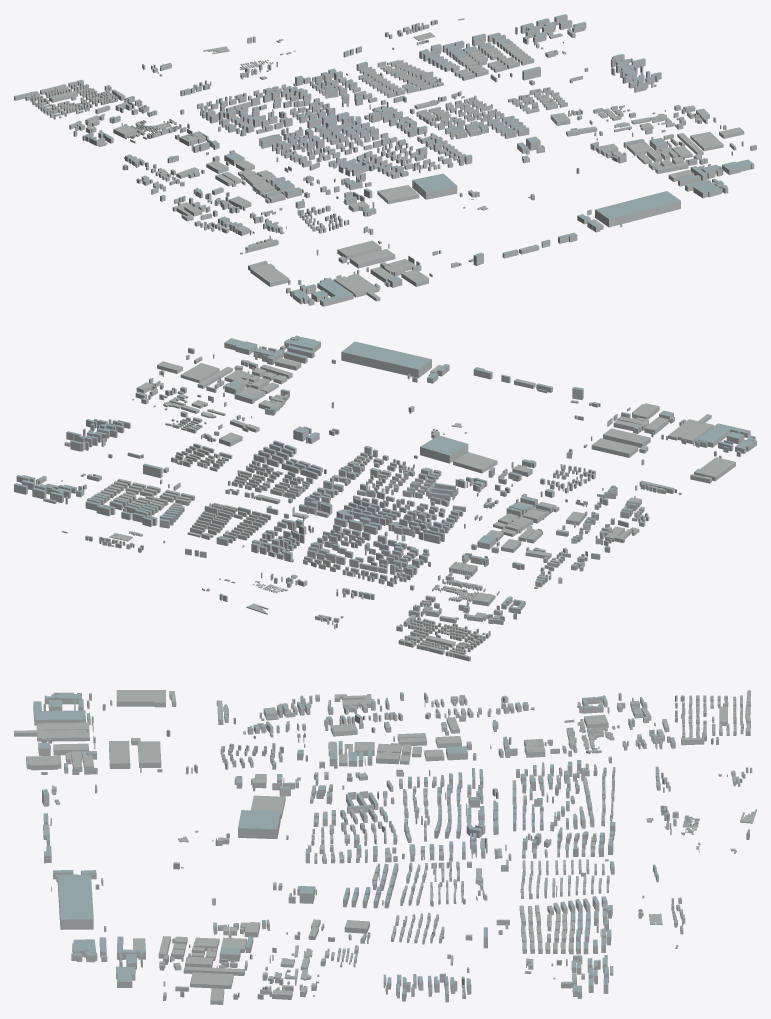
Rendered from far.glb.
The picture shows the model from 3 angles, top to bottom: view 1: azimuth 30°, elevation 25°; view 2: azimuth 150°, elevation 25°; view 3: azimuth 270°, elevation 25°; orthographic projection. The views are drawn at different scales.
Bounding box in the file's own units: 2164 × 38.69 × 2192.
